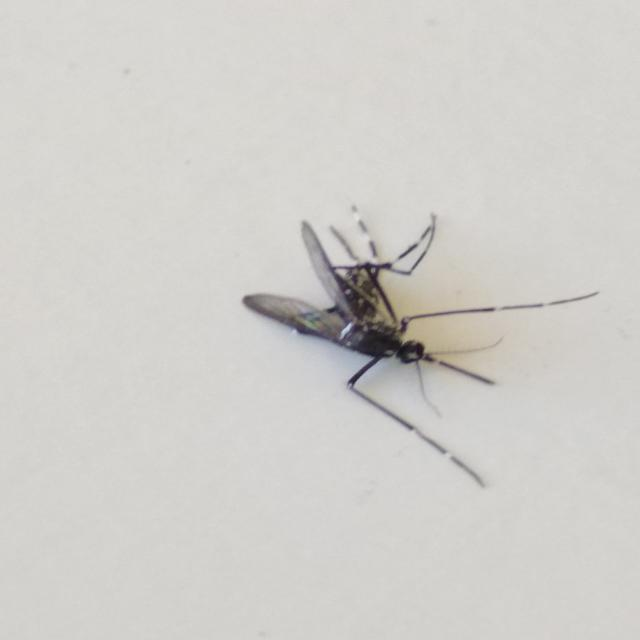albopictus: (224, 196, 589, 483)
